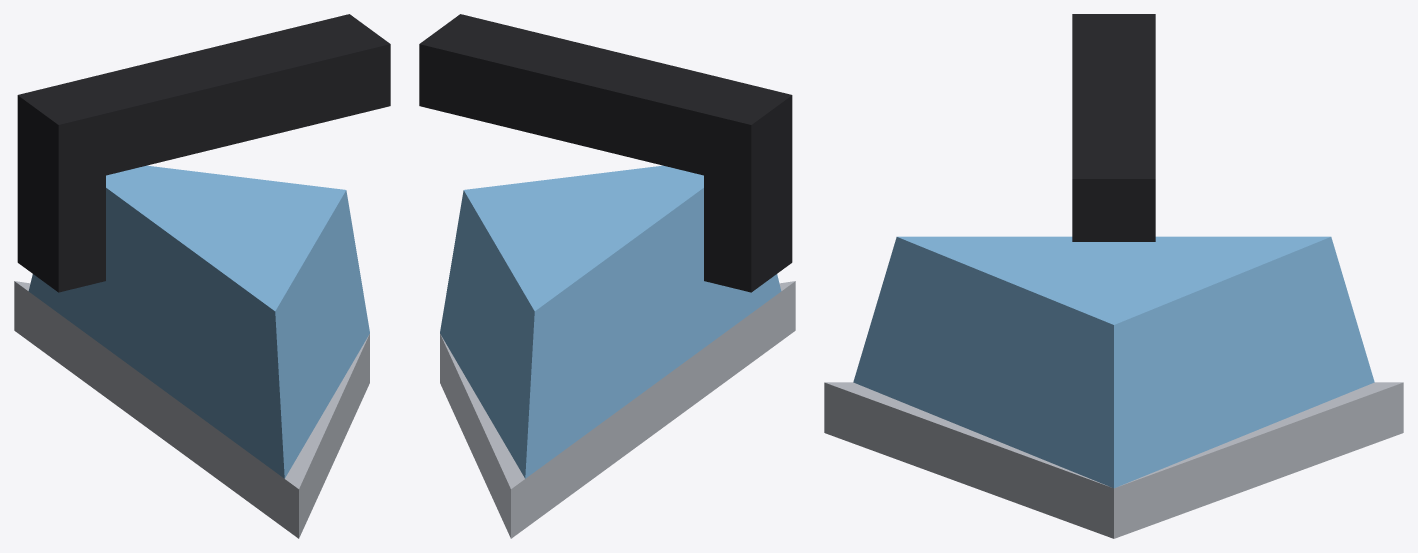
The model's file is carwash_iron.glb.
3 views of the same model, side by side, from view 1: azimuth 30°, elevation 25°; view 2: azimuth 150°, elevation 25°; view 3: azimuth 270°, elevation 25° (orthographic).
Visible parts, largest first — view 1: body_iron_body, handle_iron_handle (×2), plate_iron_plate; view 2: body_iron_body, handle_iron_handle (×2), plate_iron_plate; view 3: body_iron_body, plate_iron_plate, handle_iron_handle.
Boxes of the visible parts, x1=… form: body_iron_body: x1=28, y1=165, x2=369, y2=478; handle_iron_handle (×2): x1=17, y1=14, x2=390, y2=292; plate_iron_plate: x1=14, y1=281, x2=369, y2=538; body_iron_body: x1=440, y1=165, x2=781, y2=478; handle_iron_handle (×2): x1=419, y1=14, x2=792, y2=292; plate_iron_plate: x1=440, y1=281, x2=795, y2=538; body_iron_body: x1=853, y1=236, x2=1374, y2=488; plate_iron_plate: x1=824, y1=382, x2=1403, y2=538; handle_iron_handle: x1=1072, y1=14, x2=1155, y2=241.
Bounding box in the file's own units: 0.14 × 0.1425 × 0.2078.
